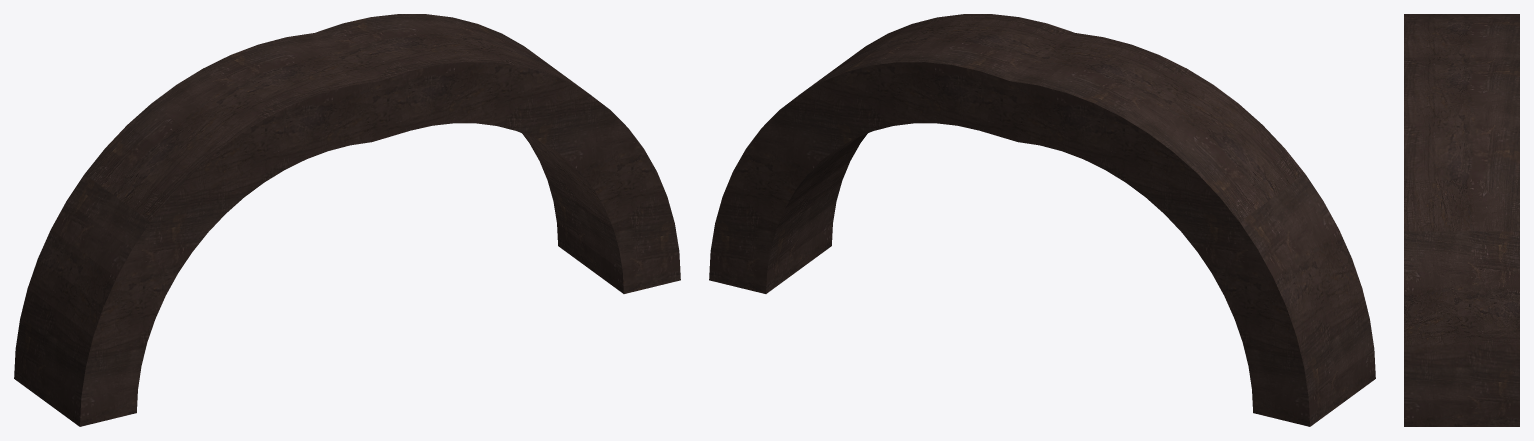
File: court_arch.glb
3 renders of one model, left to right at view 1: azimuth 30°, elevation 25°; view 2: azimuth 150°, elevation 25°; view 3: azimuth 270°, elevation 25°, orthographic. The views are drawn at different scales.
Parts seen in each view (by area): view 1: court_arch.017; view 2: court_arch.017; view 3: court_arch.017.
Boxes of the visible parts, x1,y1,x2,y2 form: court_arch.017: (14, 14, 680, 426); court_arch.017: (709, 14, 1375, 426); court_arch.017: (1404, 14, 1519, 426).
Size of the model in its own units: 7.38 by 3.23 by 1.4.
Materials: 1 (1 with a texture image).
